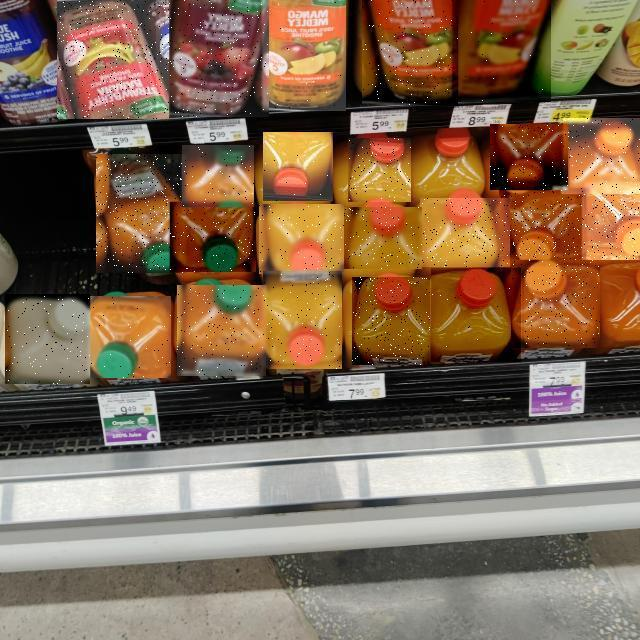Juice: (57, 0, 169, 119), (156, 0, 269, 117), (97, 154, 187, 273), (452, 0, 551, 102), (362, 0, 458, 105), (263, 0, 347, 111), (432, 269, 524, 363), (178, 286, 268, 378), (263, 271, 342, 369), (5, 294, 90, 384), (515, 260, 601, 348), (500, 188, 590, 266), (352, 277, 430, 365), (88, 296, 171, 378), (421, 198, 511, 267), (170, 202, 256, 272), (259, 204, 344, 274), (563, 118, 640, 194), (491, 124, 569, 190), (345, 207, 423, 269), (263, 132, 333, 201), (182, 145, 254, 207), (585, 182, 640, 260), (348, 139, 411, 203)
